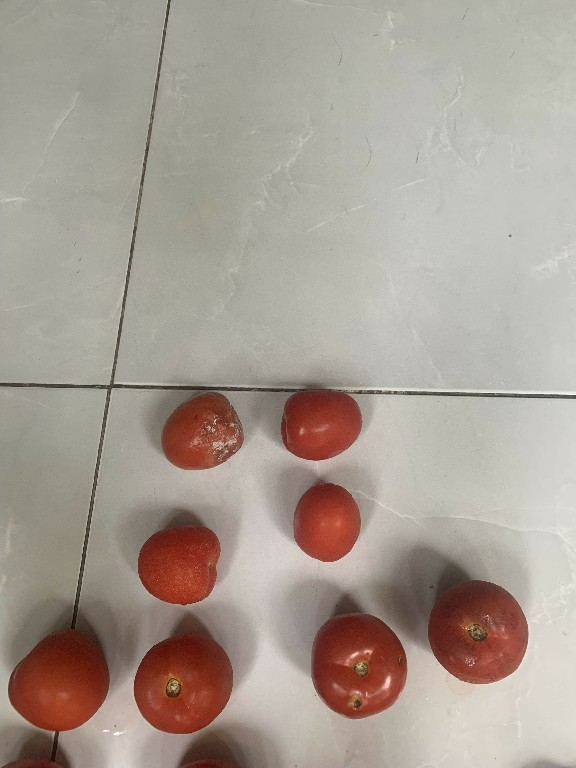NG: (425, 576, 530, 691), (307, 611, 410, 723), (159, 388, 241, 474)
OK: (0, 621, 113, 735), (127, 630, 242, 737), (129, 515, 227, 606), (280, 381, 367, 466), (288, 476, 365, 564)
